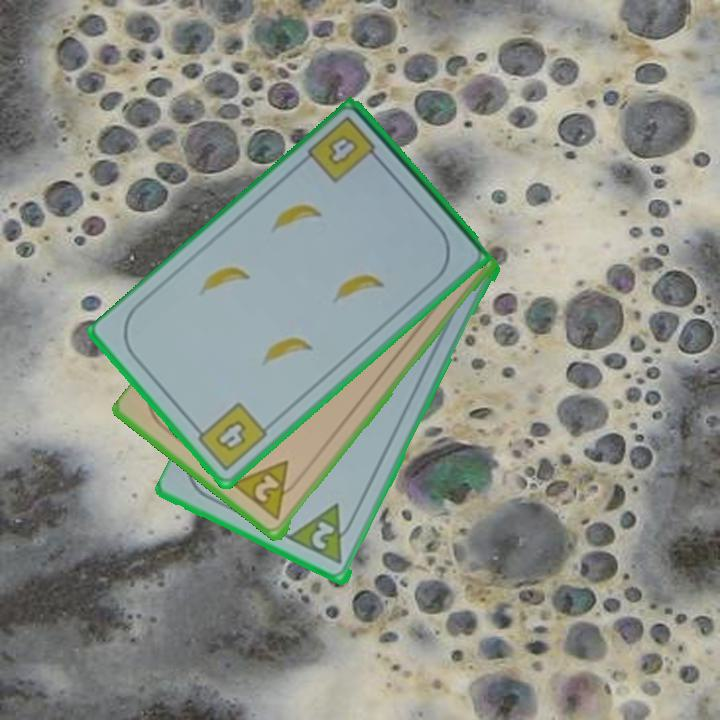2p: (230, 457, 305, 524), (308, 518, 338, 553)
4b: (189, 398, 271, 474), (304, 113, 386, 187)
